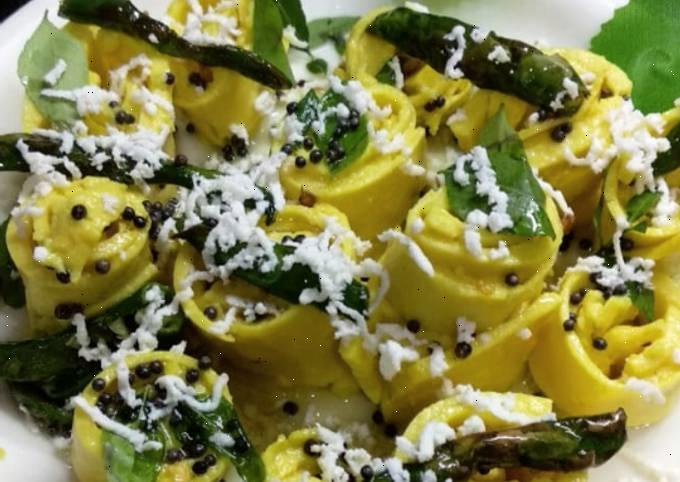khandvi: (2, 6, 680, 482)
